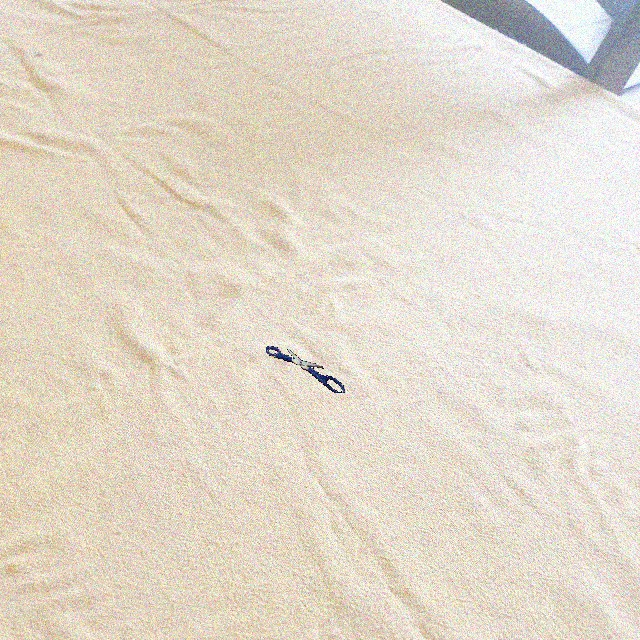scissors: (266, 346, 345, 393)
